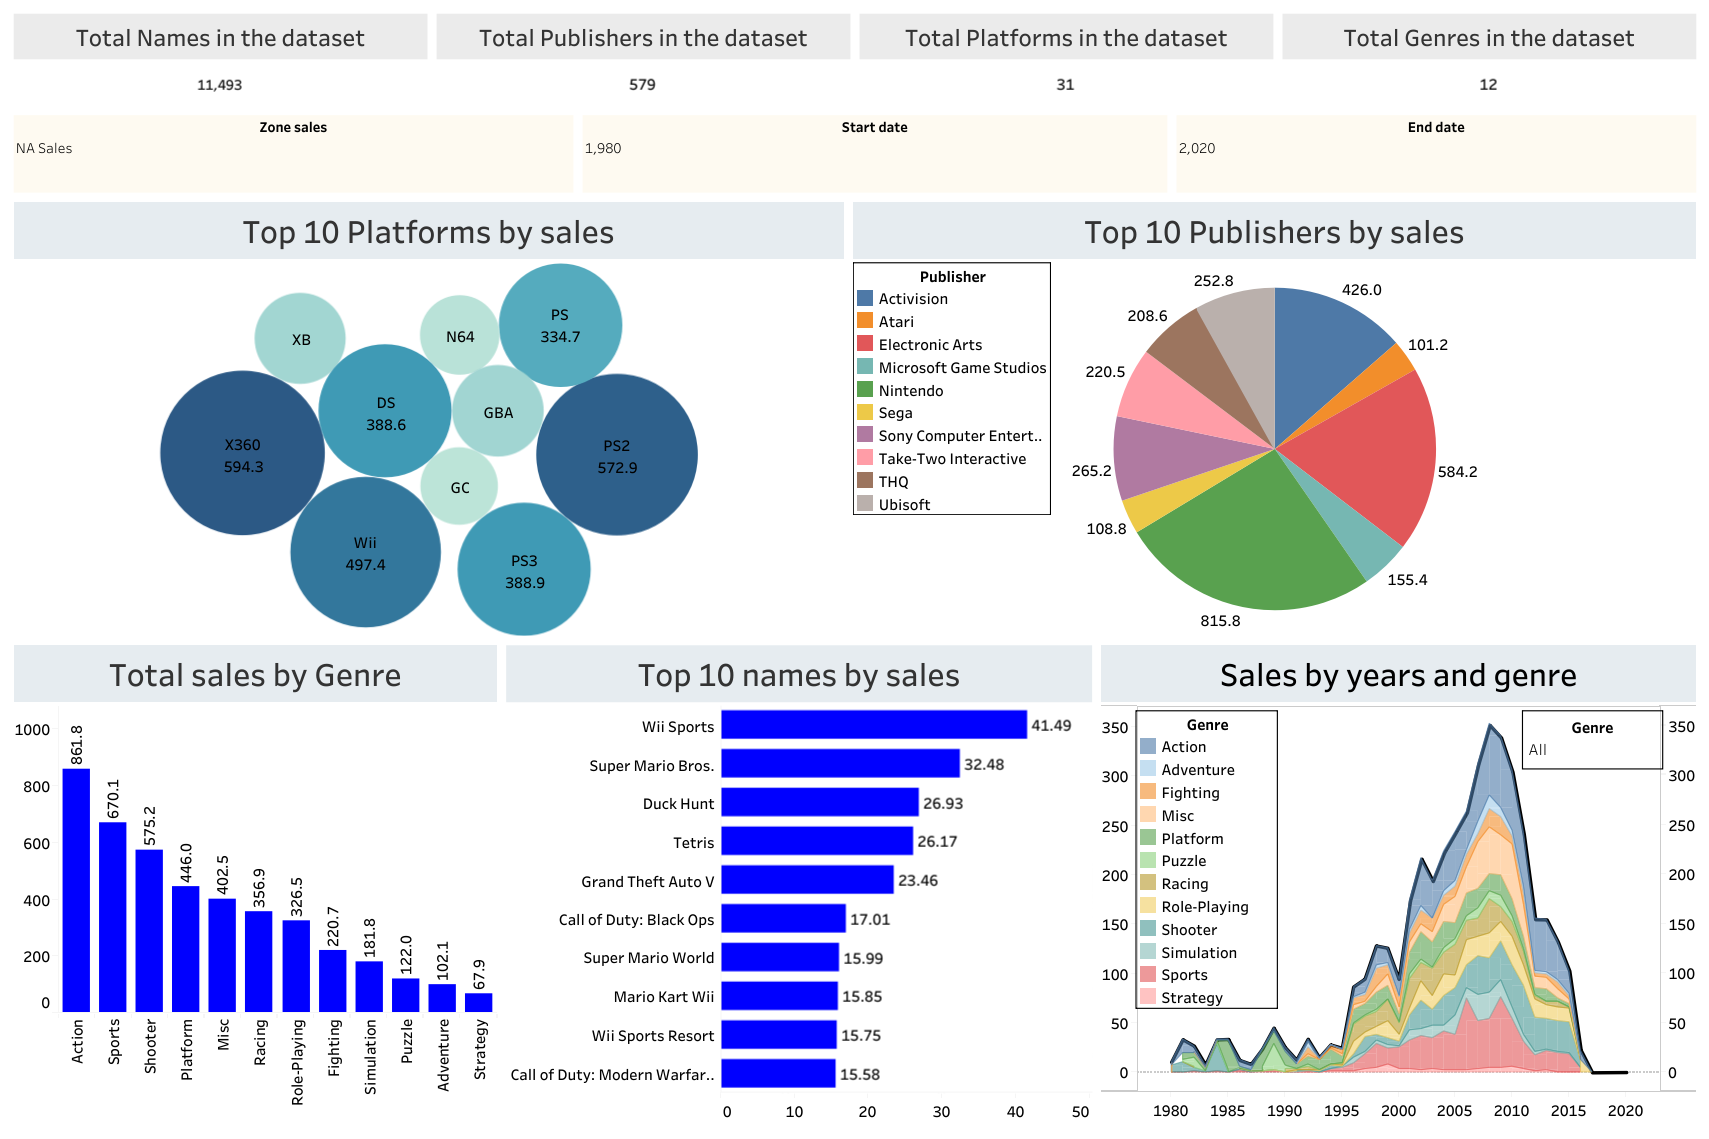

The dashboard page shown, as its layout file describes it:
{"tool":"tableau","page":{"name":"Video Games Dashboard","canvas":[1500,1000],"ordinal":0},"visuals":[{"type":"worksheet","title":"Total Names in the dataset","mark":"Automatic","box":[8,8,370.9,89]},{"type":"worksheet","title":"Total Publishers in the dataset","mark":"Automatic","box":[378.9,8,371,89]},{"type":"worksheet","title":"Total Platforms in the dataset","mark":"Automatic","box":[750,8,371,89]},{"type":"worksheet","title":"Total Genres in the dataset","mark":"Automatic","box":[1121,8,371.1,89]},{"type":"parameter","param":"[Parameters].[Parameter 1]","box":[8,97,499.5,75.5]},{"type":"parameter","param":"[Parameters].[Parameter 2]","box":[507.5,97,520.9,75.5]},{"type":"parameter","param":"[Parameters].[Parameter 3]","box":[1028.4,97,463.6,75.5]},{"type":"worksheet","title":"Top 10 Platforms by sales","mark":"Circle","box":[8,172.5,736.5,389.1]},{"type":"worksheet","title":"Top 10 Publishers by sales","mark":"Pie","box":[744.4,172.5,747.6,389.1]},{"type":"legend","title":"Top 10 Publishers by sales","param":"[federated.16mf7lk10zfqt4179vzvm1uxvooz].[none:Publisher:nk]","box":[747.8,230.1,174.7,257.7]},{"type":"worksheet","title":"Total sales by Genre","mark":"Automatic","rows":["Calculation_640637054162010113"],"cols":["Genre"],"box":[8,561.6,432.3,430.4]},{"type":"worksheet","title":"Top 10 names by sales","mark":"Automatic","rows":["Name"],"cols":["Calculation_640637054162010113"],"box":[440.3,561.6,522,430.4]},{"type":"worksheet","title":"Sales by years and genre","mark":"Automatic","rows":["Calculation_640637054162010113","Calculation_640637054162010113"],"cols":["Year"],"box":[962.3,561.6,529.7,430.4]},{"type":"legend","title":"Sales by years and genre","param":"[federated.16mf7lk10zfqt4179vzvm1uxvooz].[none:Genre:nk]","box":[996,623,125.2,268]},{"type":"filter","title":"Sales by years and genre","param":"[federated.16mf7lk10zfqt4179vzvm1uxvooz].[none:Genre:nk]","box":[1335,623,123.5,52]}]}

Visuals, with their boxes in screenshot pixels (x1, y1, x2, y2), scaled from the page's 1500x1000 canvas onto the 1709x1139 screenshot:
"Total Names in the dataset" worksheet: left=9, top=9, right=432, bottom=110
"Total Publishers in the dataset" worksheet: left=432, top=9, right=854, bottom=110
"Total Platforms in the dataset" worksheet: left=854, top=9, right=1277, bottom=110
"Total Genres in the dataset" worksheet: left=1277, top=9, right=1700, bottom=110
parameter: left=9, top=110, right=578, bottom=196
parameter: left=578, top=110, right=1172, bottom=196
parameter: left=1172, top=110, right=1700, bottom=196
"Top 10 Platforms by sales" worksheet (Circle marks): left=9, top=196, right=848, bottom=640
"Top 10 Publishers by sales" worksheet (Pie marks): left=848, top=196, right=1700, bottom=640
"Top 10 Publishers by sales" legend: left=852, top=262, right=1051, bottom=556
"Total sales by Genre" worksheet: left=9, top=640, right=502, bottom=1130
"Top 10 names by sales" worksheet: left=502, top=640, right=1096, bottom=1130
"Sales by years and genre" worksheet: left=1096, top=640, right=1700, bottom=1130
"Sales by years and genre" legend: left=1135, top=710, right=1277, bottom=1015
"Sales by years and genre" filter: left=1521, top=710, right=1662, bottom=769
